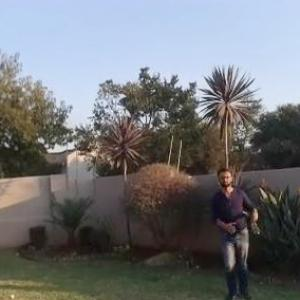follow: (202, 162, 270, 299)
